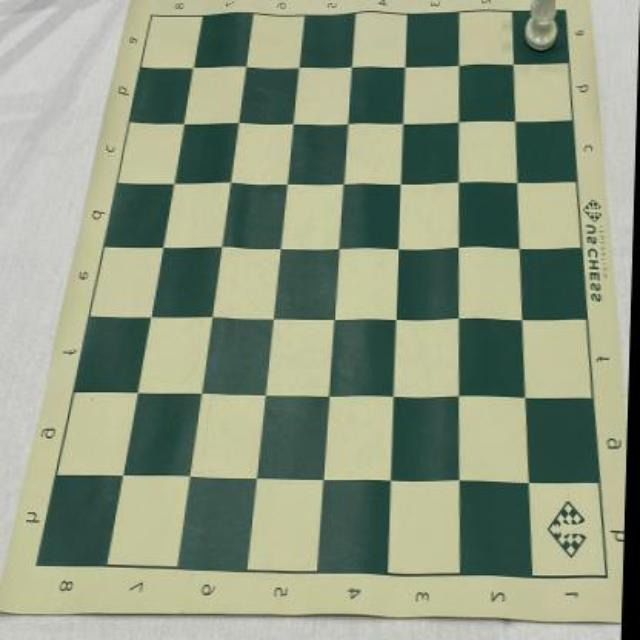white-knight: (524, 0, 560, 52)
